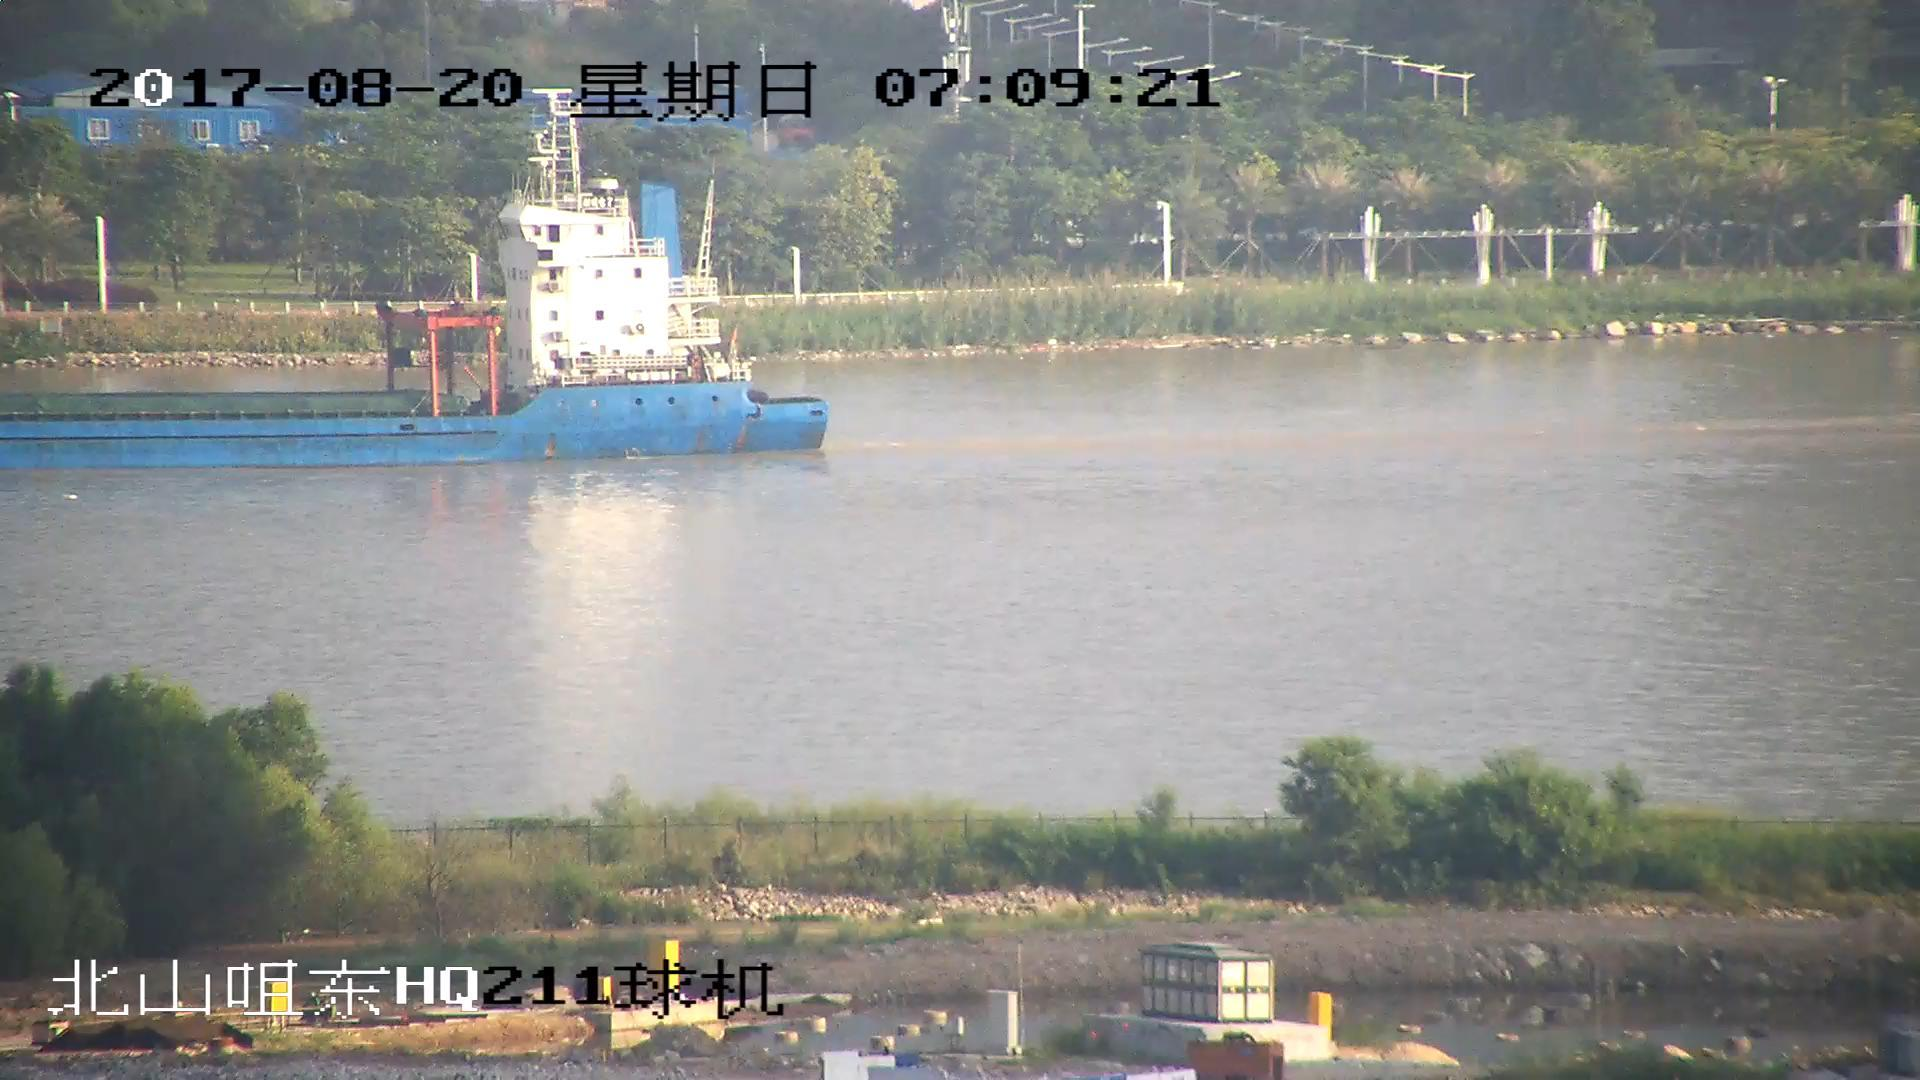Ship: (3, 135, 832, 471)
